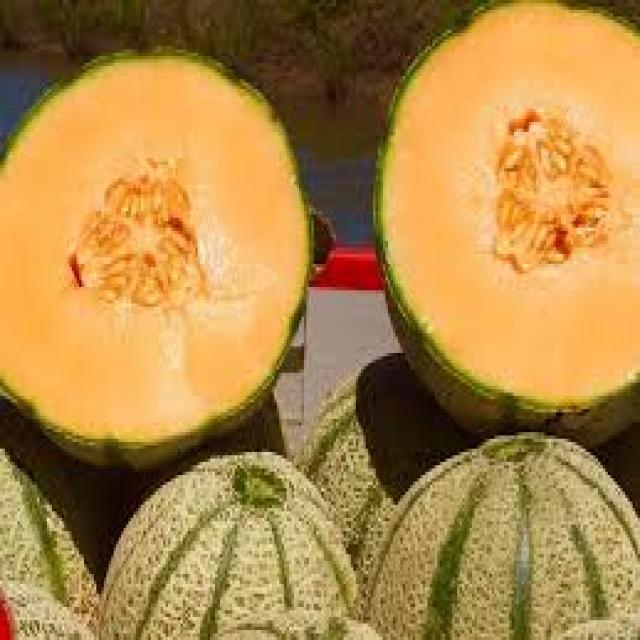cantaloupe: (0, 43, 311, 472), (374, 0, 640, 434)
